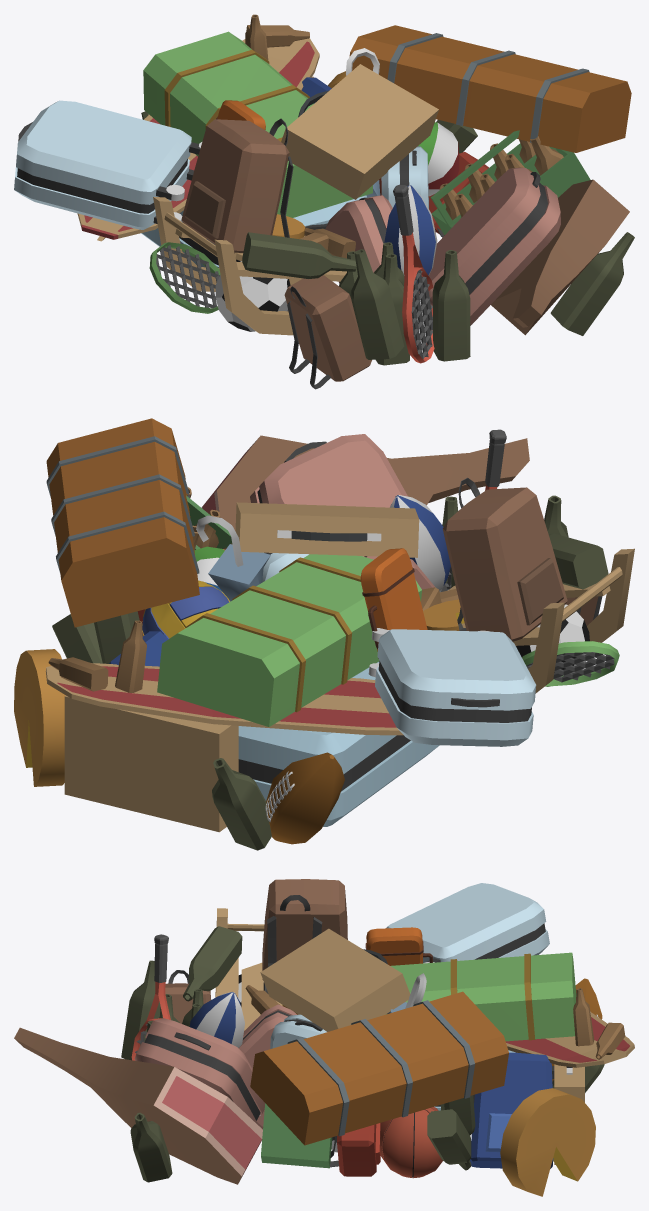
The model's file is Groupe_Bagage_25.fbx.
3 views of the same model, one above another, from view 1: azimuth 30°, elevation 25°; view 2: azimuth 150°, elevation 25°; view 3: azimuth 270°, elevation 25° (orthographic). The views are drawn at different scales.
Parts seen in each view (by area): view 1: Groupe_Bagage_25; view 2: Groupe_Bagage_25; view 3: Groupe_Bagage_25.
Part boxes in pixels (x1,y1,x2,y2): Groupe_Bagage_25: [14, 14, 634, 389]; Groupe_Bagage_25: [14, 418, 634, 850]; Groupe_Bagage_25: [14, 879, 634, 1196].
Size of the model in its own units: 298 by 121 by 340.
1 material, 1 textured.
